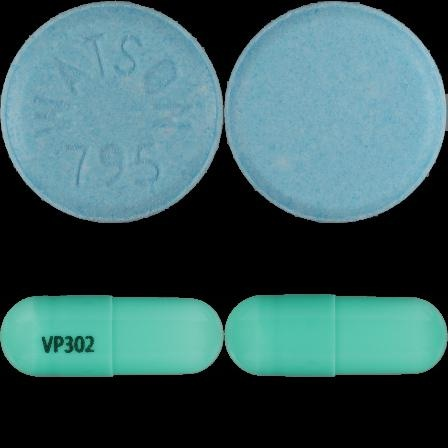50090-0130: (0, 0, 224, 224)
